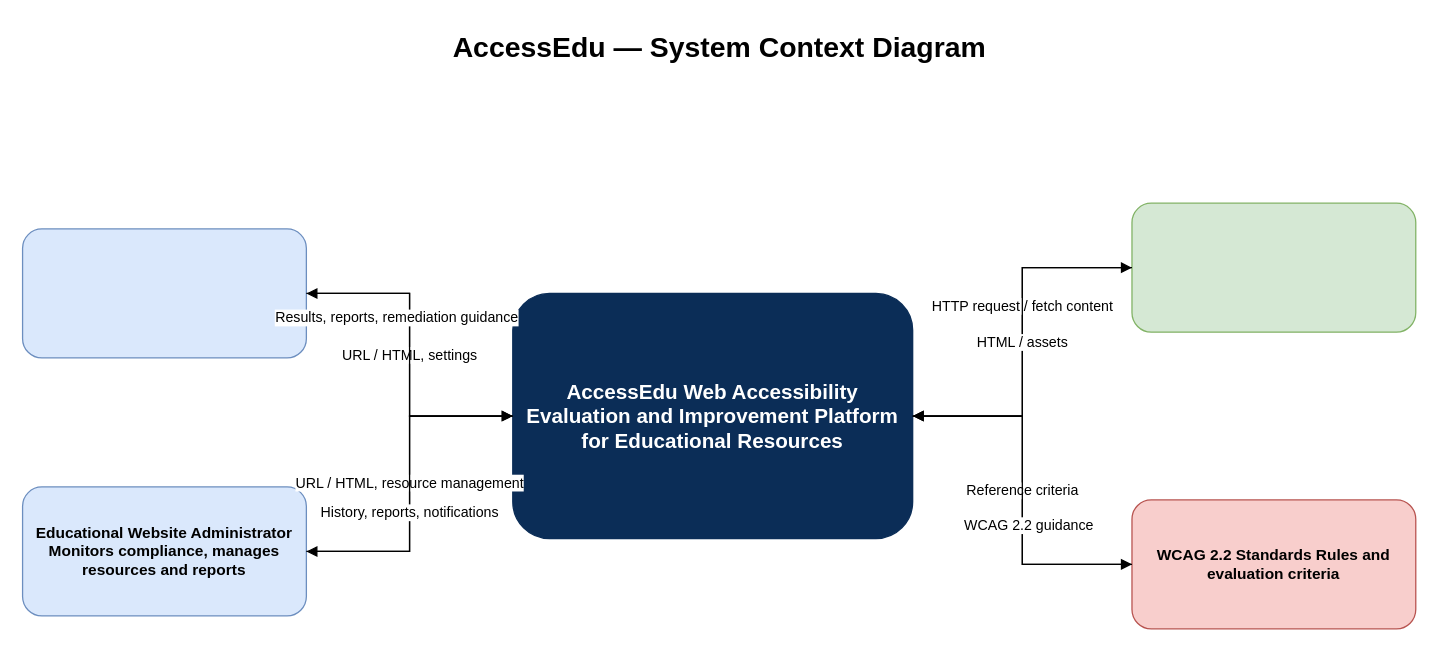
This 1438x651 diagram has some shape labels left out. Here are the shapes that lost their labels. From the top down, the centre of each, then its label:
At (x=1273, y=267): "Educational Websites / LMS Public HTML pages and assets to be evaluated".
At (x=163, y=293): "Web Developer Checks accessibility, identifies issues and fixes them".
